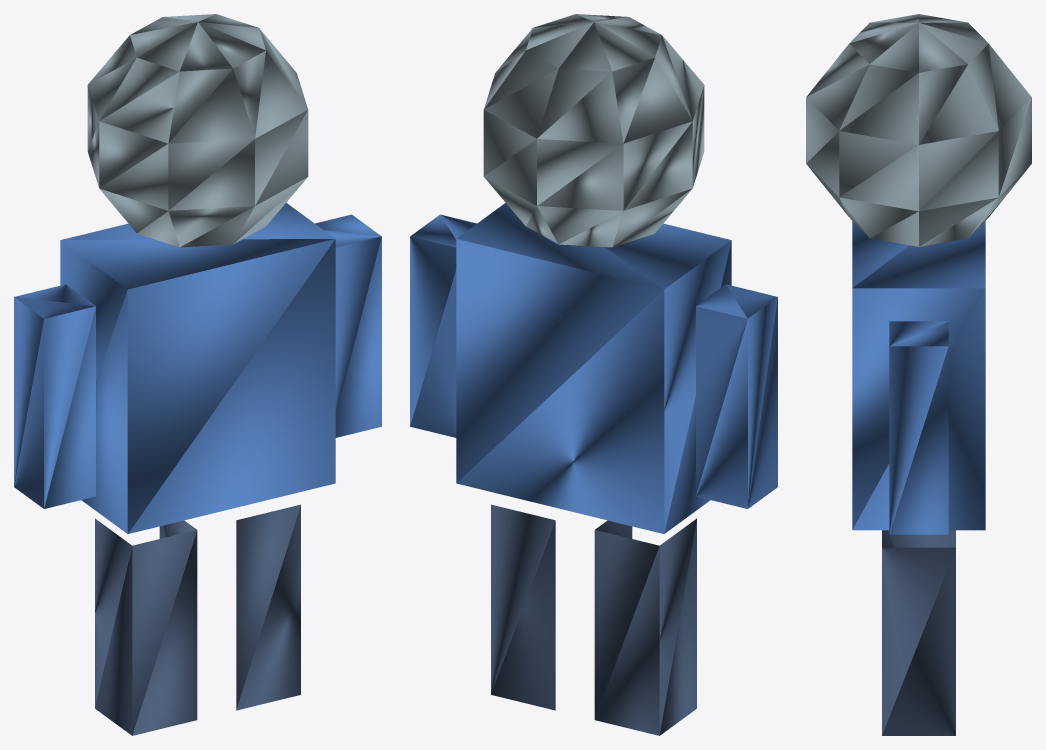
The model's file is person.glb.
3 views of the same model, side by side, from view 1: azimuth 30°, elevation 25°; view 2: azimuth 150°, elevation 25°; view 3: azimuth 270°, elevation 25° (orthographic).
Parts seen in each view (by area): view 1: person-mesh; view 2: person-mesh; view 3: person-mesh.
Boxes of the visible parts, x1,y1,x2,y2 form: person-mesh: (14, 14, 381, 735); person-mesh: (410, 14, 777, 735); person-mesh: (806, 14, 1031, 735).
Size of the model in its own units: 0.52 by 1 by 0.3043.
